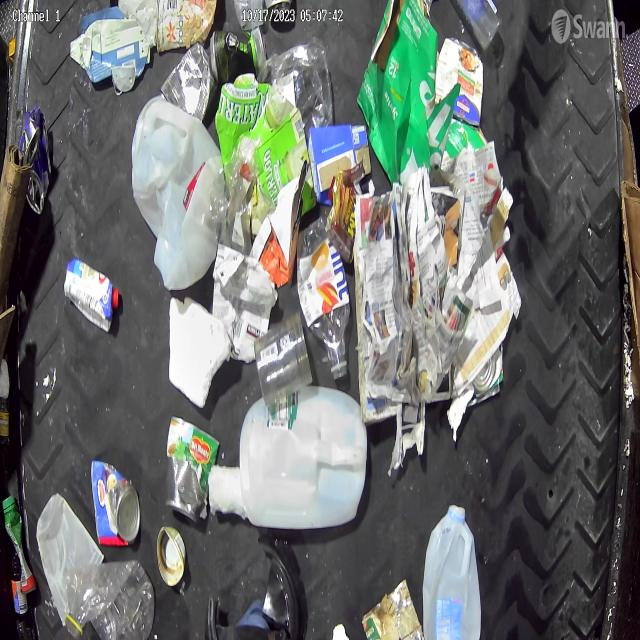can: (434, 35, 484, 130), (90, 460, 142, 550), (168, 414, 213, 518), (160, 42, 211, 121), (18, 104, 52, 217), (210, 27, 268, 82)
milk_jug: (237, 385, 368, 530), (130, 95, 224, 292), (423, 503, 480, 638)
plastic_bottle: (296, 216, 350, 382), (64, 558, 156, 640)
